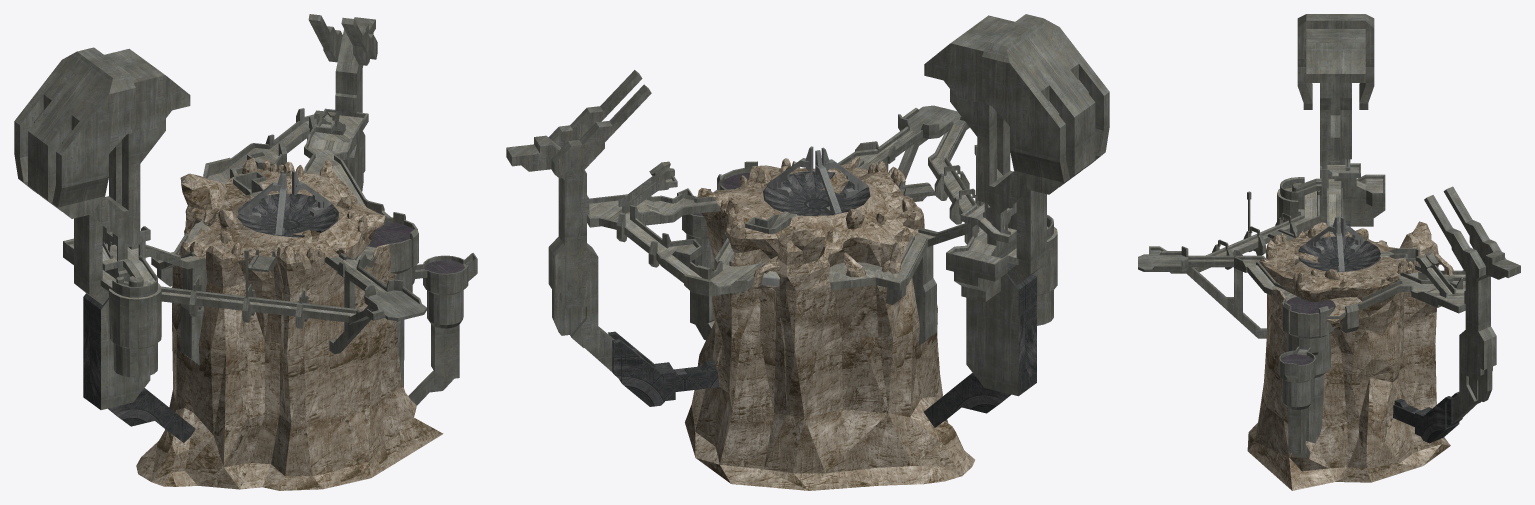
The model's file is testDM.fbx.
The picture shows the model from 3 angles, left to right: view 1: azimuth 30°, elevation 25°; view 2: azimuth 150°, elevation 25°; view 3: azimuth 270°, elevation 25°; orthographic projection. The views are drawn at different scales.
Visible parts, largest first — view 1: ID1394; view 2: ID1394; view 3: ID1394.
Part boxes in pixels (box(x1,y1,x2,y2)): ID1394: box(14, 14, 477, 490); ID1394: box(506, 14, 1109, 490); ID1394: box(1138, 14, 1520, 490).
Bounding box in the file's own units: 11852 × 10925 × 10860.
